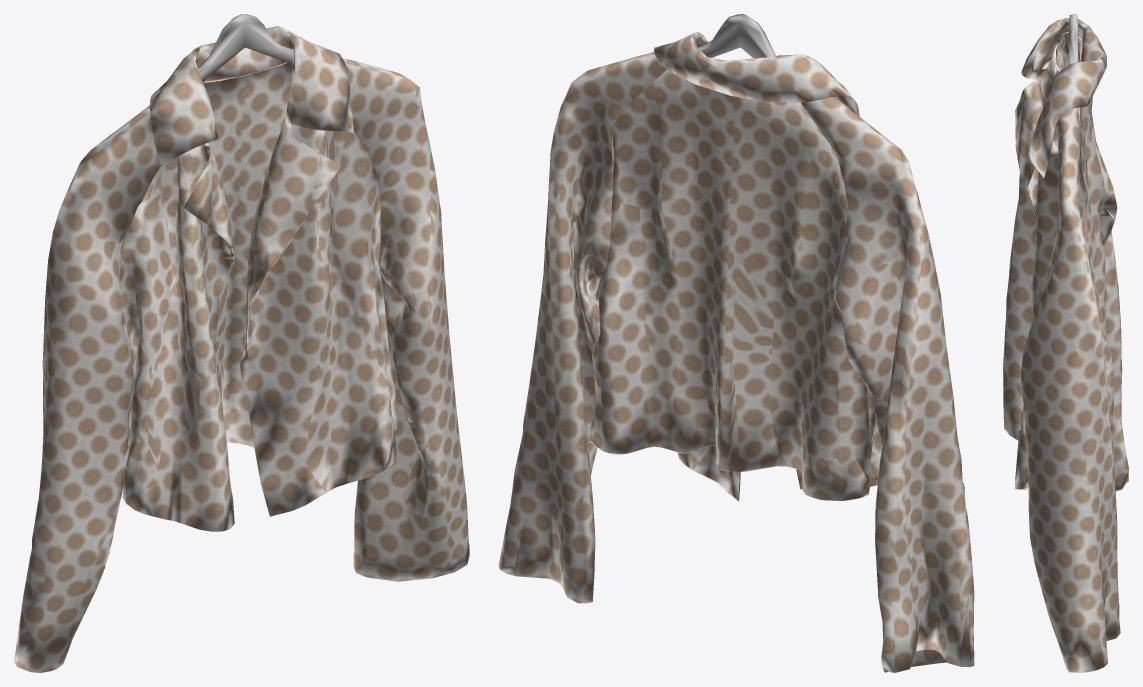
The model's file is hvtop_clothes06_jacket_02.glb.
3 renders of one model, left to right at view 1: azimuth 30°, elevation 25°; view 2: azimuth 150°, elevation 25°; view 3: azimuth 270°, elevation 25°, orthographic. The views are drawn at different scales.
Parts seen in each view (by area): view 1: clothes06_jacket_02_StaticMeshComponent0; view 2: clothes06_jacket_02_StaticMeshComponent0; view 3: clothes06_jacket_02_StaticMeshComponent0.
Boxes of the visible parts, x1,y1,x2,y2 form: clothes06_jacket_02_StaticMeshComponent0: (14, 14, 469, 672); clothes06_jacket_02_StaticMeshComponent0: (498, 14, 974, 672); clothes06_jacket_02_StaticMeshComponent0: (1003, 14, 1128, 672).
Size of the model in its own units: 0.5536 by 0.7024 by 0.1421.
Materials: 3 (1 with a texture image).
